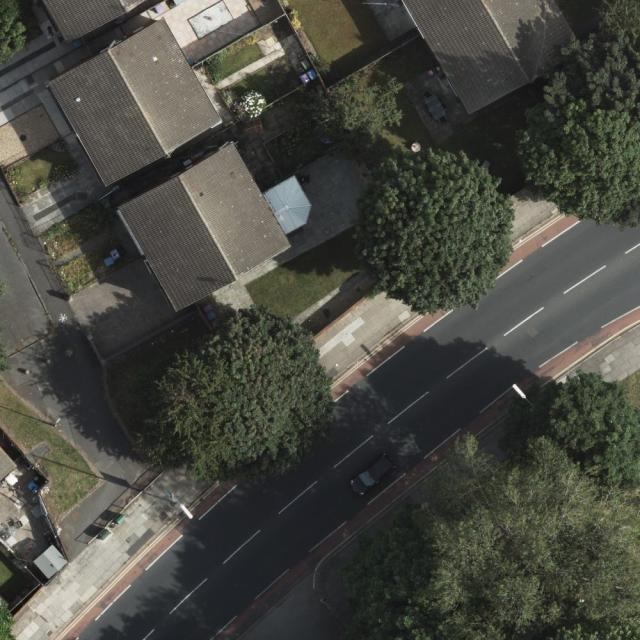roof: (116, 142, 311, 314), (46, 18, 222, 184), (403, 0, 575, 118), (40, 0, 147, 42)
